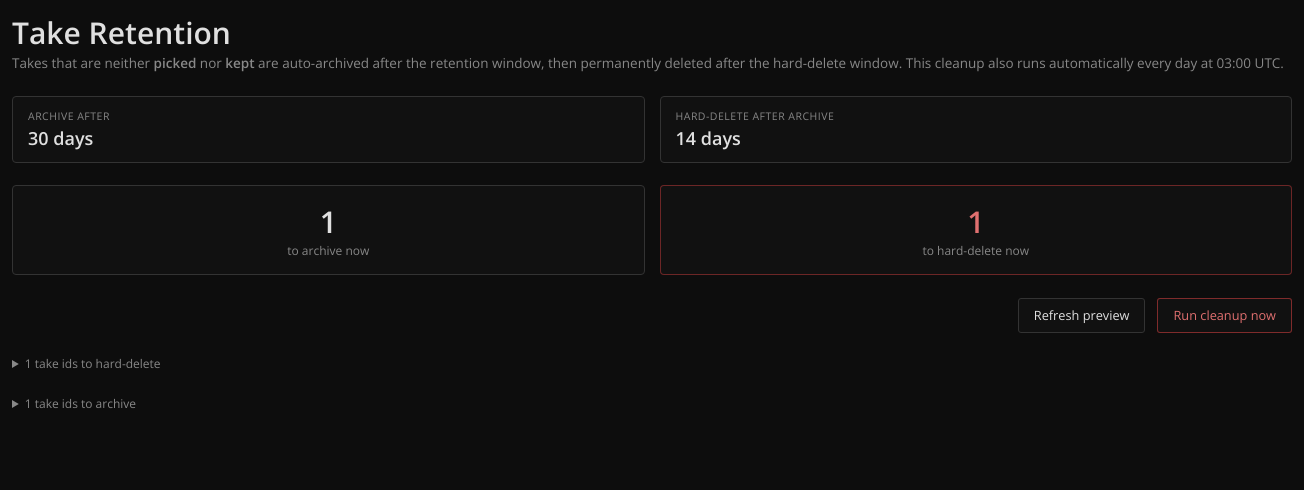
Test: generation retention settings › counts a single take in the confirmation without a stray plural
Click the button "Run cleanup now".
click(1225, 315)  # box [1158,298,1292,333]
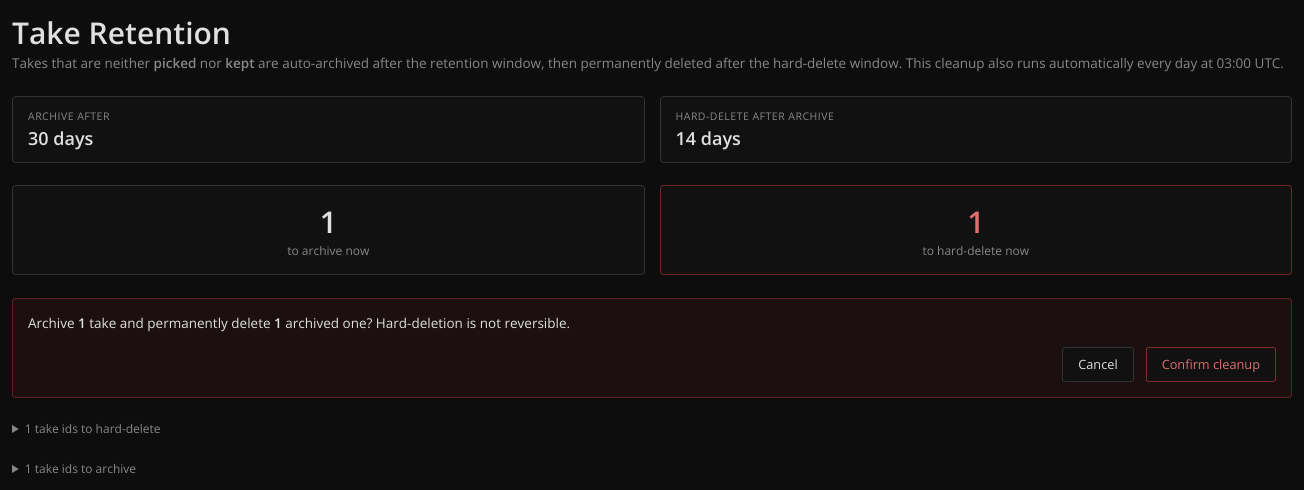
Now the text "Archive 1 take and permanently delete 1 archived one?" is shown, box [28,314,570,332]
